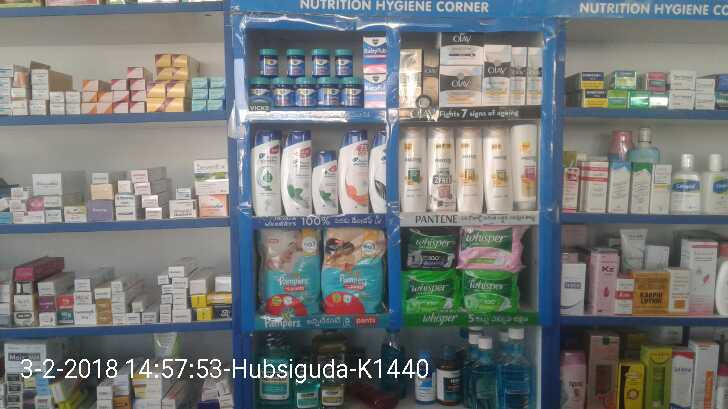vicks: (241, 32, 390, 116)
